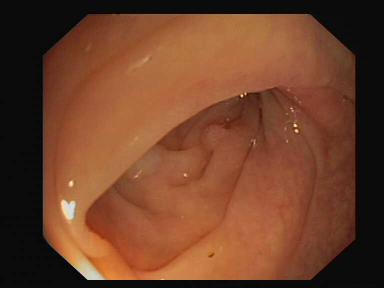polyp: (120, 144, 163, 184), (188, 123, 232, 145)
